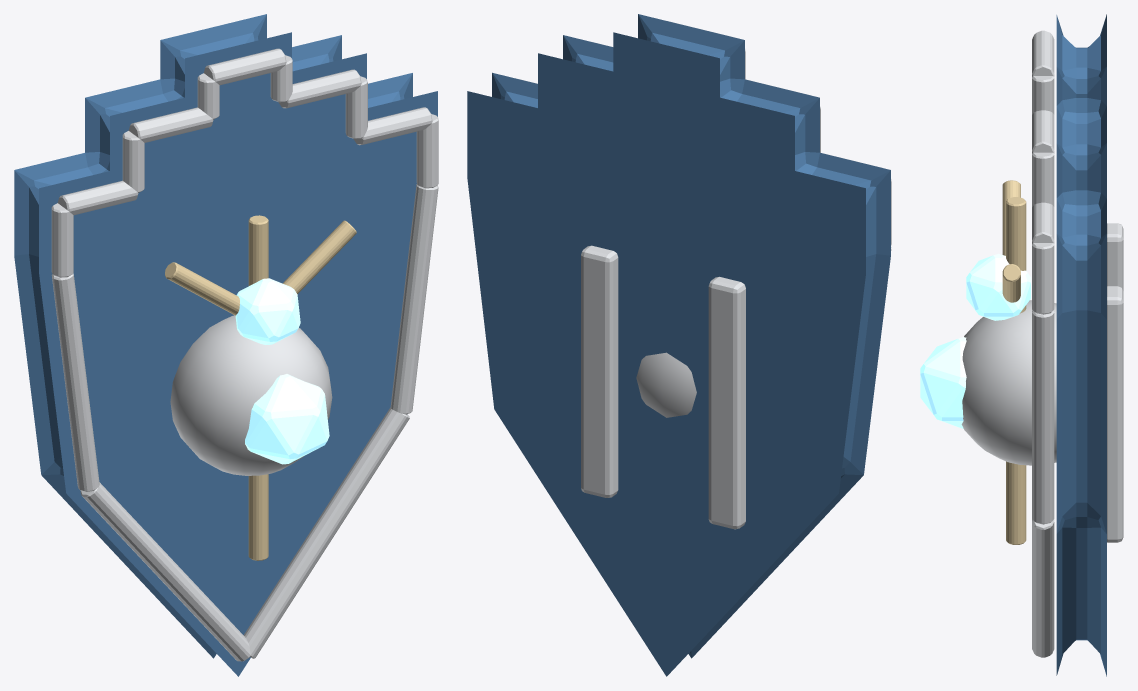
Rendered from warrior-shield-10-royal-lion.glb.
3 renders of one model, left to right at view 1: azimuth 30°, elevation 25°; view 2: azimuth 150°, elevation 25°; view 3: azimuth 270°, elevation 25°, orthographic.
Visible parts, largest first — view 1: warrior-shield-10-royal-lion_ShieldBack, warrior-shield-10-royal-lion_BossBase, warrior-shield-10-royal-lion_RaisedRim_13, warrior-shield-10-royal-lion_BossGem, warrior-shield-10-royal-lion_RaisedRim_12, warrior-shield-10-royal-lion_RaisedRim_14, warrior-shield-10-royal-lion_RaisedRim_15, warrior-shield-10-royal-lion_RoyalSapphire, warrior-shield-10-royal-lion_FleurStem, warrior-shield-10-royal-lion_RaisedRim_6, warrior-shield-10-royal-lion_RaisedRim_4, warrior-shield-10-royal-lion_RaisedRim_8 (+10 smaller); view 2: warrior-shield-10-royal-lion_ShieldBack, warrior-shield-10-royal-lion_BackStrap_1, warrior-shield-10-royal-lion_BackStrap_-1, warrior-shield-10-royal-lion_BossBase; view 3: warrior-shield-10-royal-lion_ShieldBack, warrior-shield-10-royal-lion_BossBase, warrior-shield-10-royal-lion_RaisedRim_12, warrior-shield-10-royal-lion_BackStrap_1, warrior-shield-10-royal-lion_BossGem, warrior-shield-10-royal-lion_FleurStem, warrior-shield-10-royal-lion_RaisedRim_13, warrior-shield-10-royal-lion_RoyalSapphire, warrior-shield-10-royal-lion_RaisedRim_11, warrior-shield-10-royal-lion_RaisedRim_9, warrior-shield-10-royal-lion_BackStrap_-1, warrior-shield-10-royal-lion_RaisedRim_6 (+5 smaller).
Part boxes in pixels (x1=…): warrior-shield-10-royal-lion_ShieldBack: x1=14, y1=14, x2=437, y2=676; warrior-shield-10-royal-lion_BossBase: x1=170, y1=315, x2=332, y2=475; warrior-shield-10-royal-lion_RaisedRim_13: x1=243, y1=407, x2=409, y2=658; warrior-shield-10-royal-lion_BossGem: x1=245, y1=374, x2=329, y2=464; warrior-shield-10-royal-lion_RaisedRim_12: x1=390, y1=184, x2=438, y2=414; warrior-shield-10-royal-lion_RaisedRim_14: x1=80, y1=482, x2=250, y2=661; warrior-shield-10-royal-lion_RaisedRim_15: x1=51, y1=273, x2=99, y2=491; warrior-shield-10-royal-lion_RoyalSapphire: x1=235, y1=278, x2=300, y2=344; warrior-shield-10-royal-lion_FleurStem: x1=248, y1=215, x2=268, y2=560; warrior-shield-10-royal-lion_RaisedRim_6: x1=204, y1=48, x2=286, y2=85; warrior-shield-10-royal-lion_RaisedRim_4: x1=128, y1=107, x2=213, y2=142; warrior-shield-10-royal-lion_RaisedRim_8: x1=278, y1=69, x2=361, y2=108; warrior-shield-10-royal-lion_ShieldBack: x1=467, y1=14, x2=890, y2=676; warrior-shield-10-royal-lion_BackStrap_1: x1=581, y1=245, x2=618, y2=497; warrior-shield-10-royal-lion_BackStrap_-1: x1=708, y1=276, x2=745, y2=529; warrior-shield-10-royal-lion_BossBase: x1=636, y1=352, x2=696, y2=417; warrior-shield-10-royal-lion_ShieldBack: x1=1056, y1=14, x2=1106, y2=676; warrior-shield-10-royal-lion_BossBase: x1=961, y1=300, x2=1056, y2=465; warrior-shield-10-royal-lion_RaisedRim_12: x1=1032, y1=310, x2=1054, y2=524; warrior-shield-10-royal-lion_BackStrap_1: x1=1107, y1=286, x2=1123, y2=542; warrior-shield-10-royal-lion_BossGem: x1=920, y1=337, x2=966, y2=428; warrior-shield-10-royal-lion_FleurStem: x1=1006, y1=197, x2=1026, y2=544; warrior-shield-10-royal-lion_RaisedRim_13: x1=1032, y1=519, x2=1054, y2=657; warrior-shield-10-royal-lion_RoyalSapphire: x1=966, y1=253, x2=1030, y2=320; warrior-shield-10-royal-lion_RaisedRim_11: x1=1032, y1=243, x2=1054, y2=314; warrior-shield-10-royal-lion_RaisedRim_9: x1=1032, y1=152, x2=1054, y2=206; warrior-shield-10-royal-lion_BackStrap_-1: x1=1107, y1=223, x2=1123, y2=290; warrior-shield-10-royal-lion_RaisedRim_6: x1=1032, y1=30, x2=1054, y2=76.
Bounding box in the file's own units: 1.06 × 1.61 × 0.4652.
